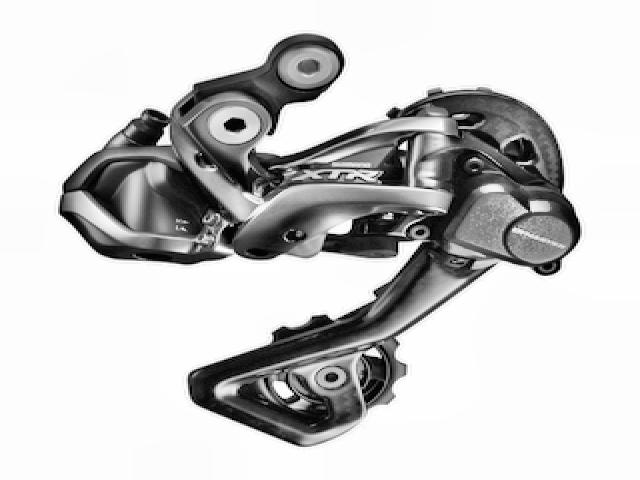rear_derailleur: (51, 29, 588, 449)
